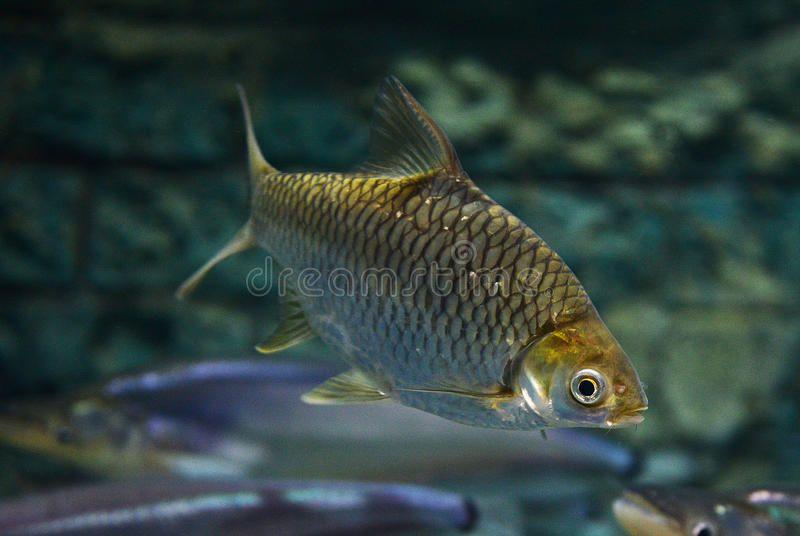Silver Barb: (168, 70, 662, 449)
